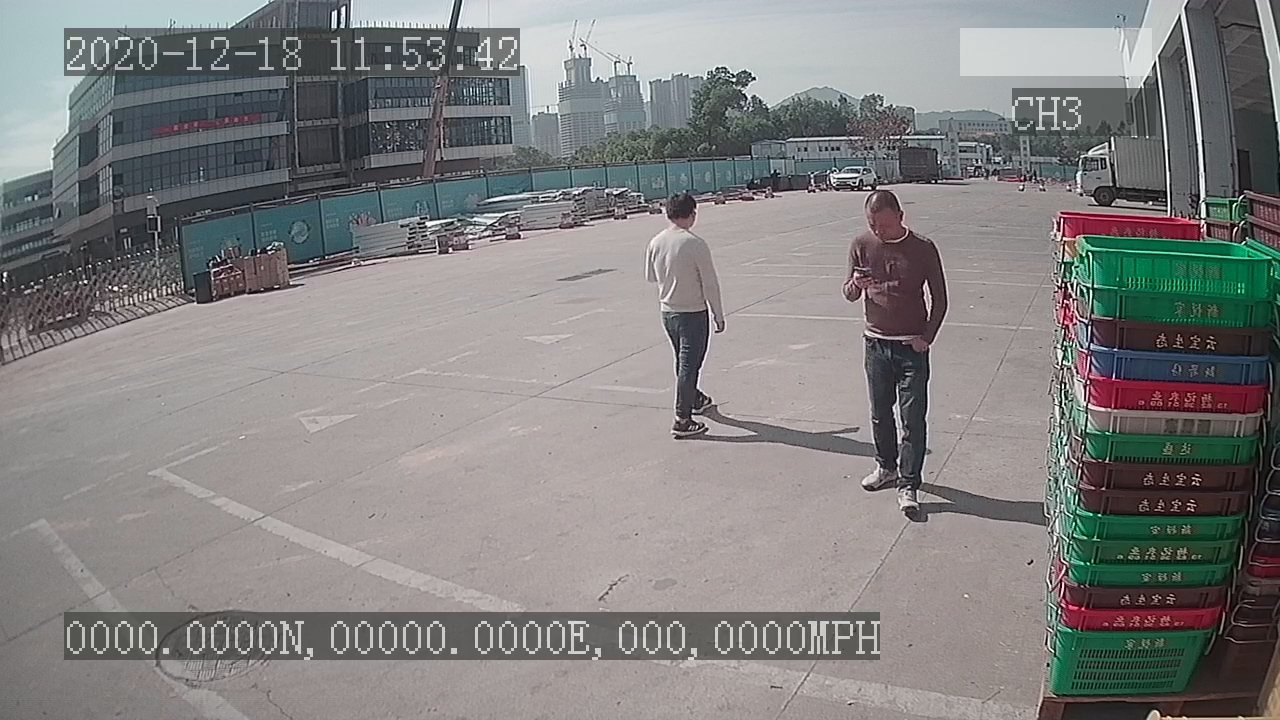person: (834, 177, 954, 529), (640, 190, 731, 447)
